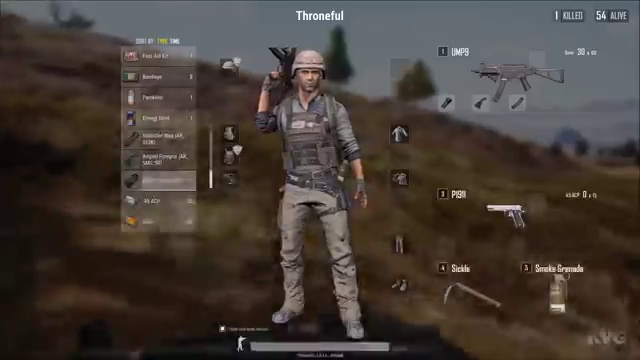Player: (249, 45, 384, 326)
